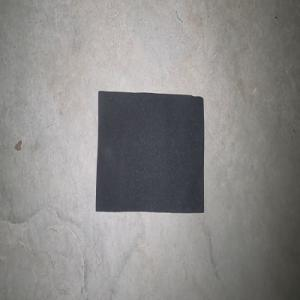PaintChip: (95, 90, 204, 213)
